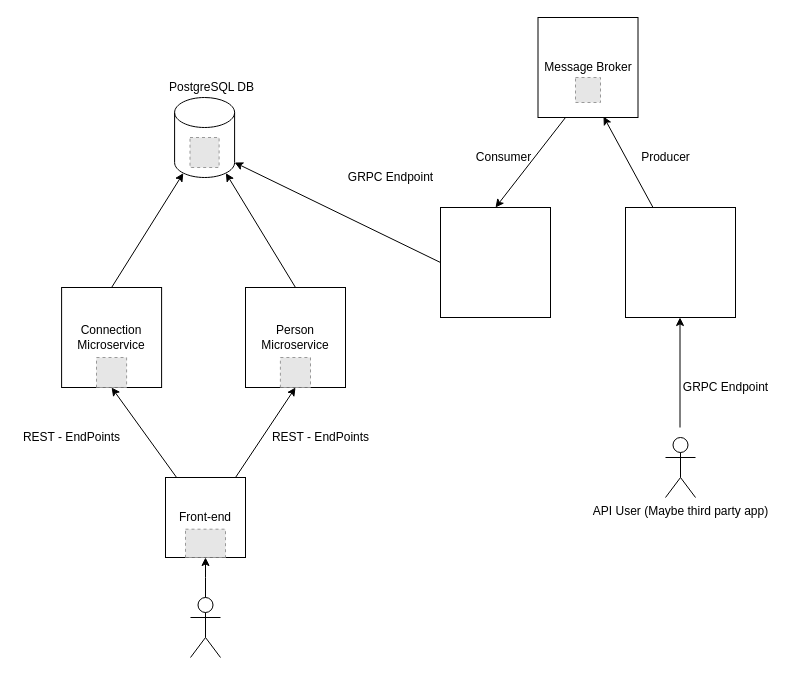
The diagram is 793 pixels wide and 696 high, and some of its shapes have lost their labels. Grey dashed boxes stand in for pictures. The centre of each missing label's shape, as x and y in pixels:
"Location-consumer-microservice [Consumer]" belongs at (x=495, y=262).
"Location-grpc Microservice [Producer]" belongs at (x=680, y=262).
"Web User" belongs at (x=205, y=627).
